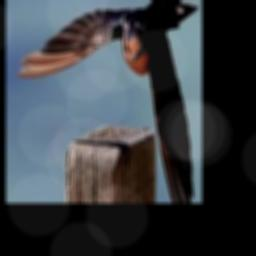Swallow: (18, 0, 198, 203)
